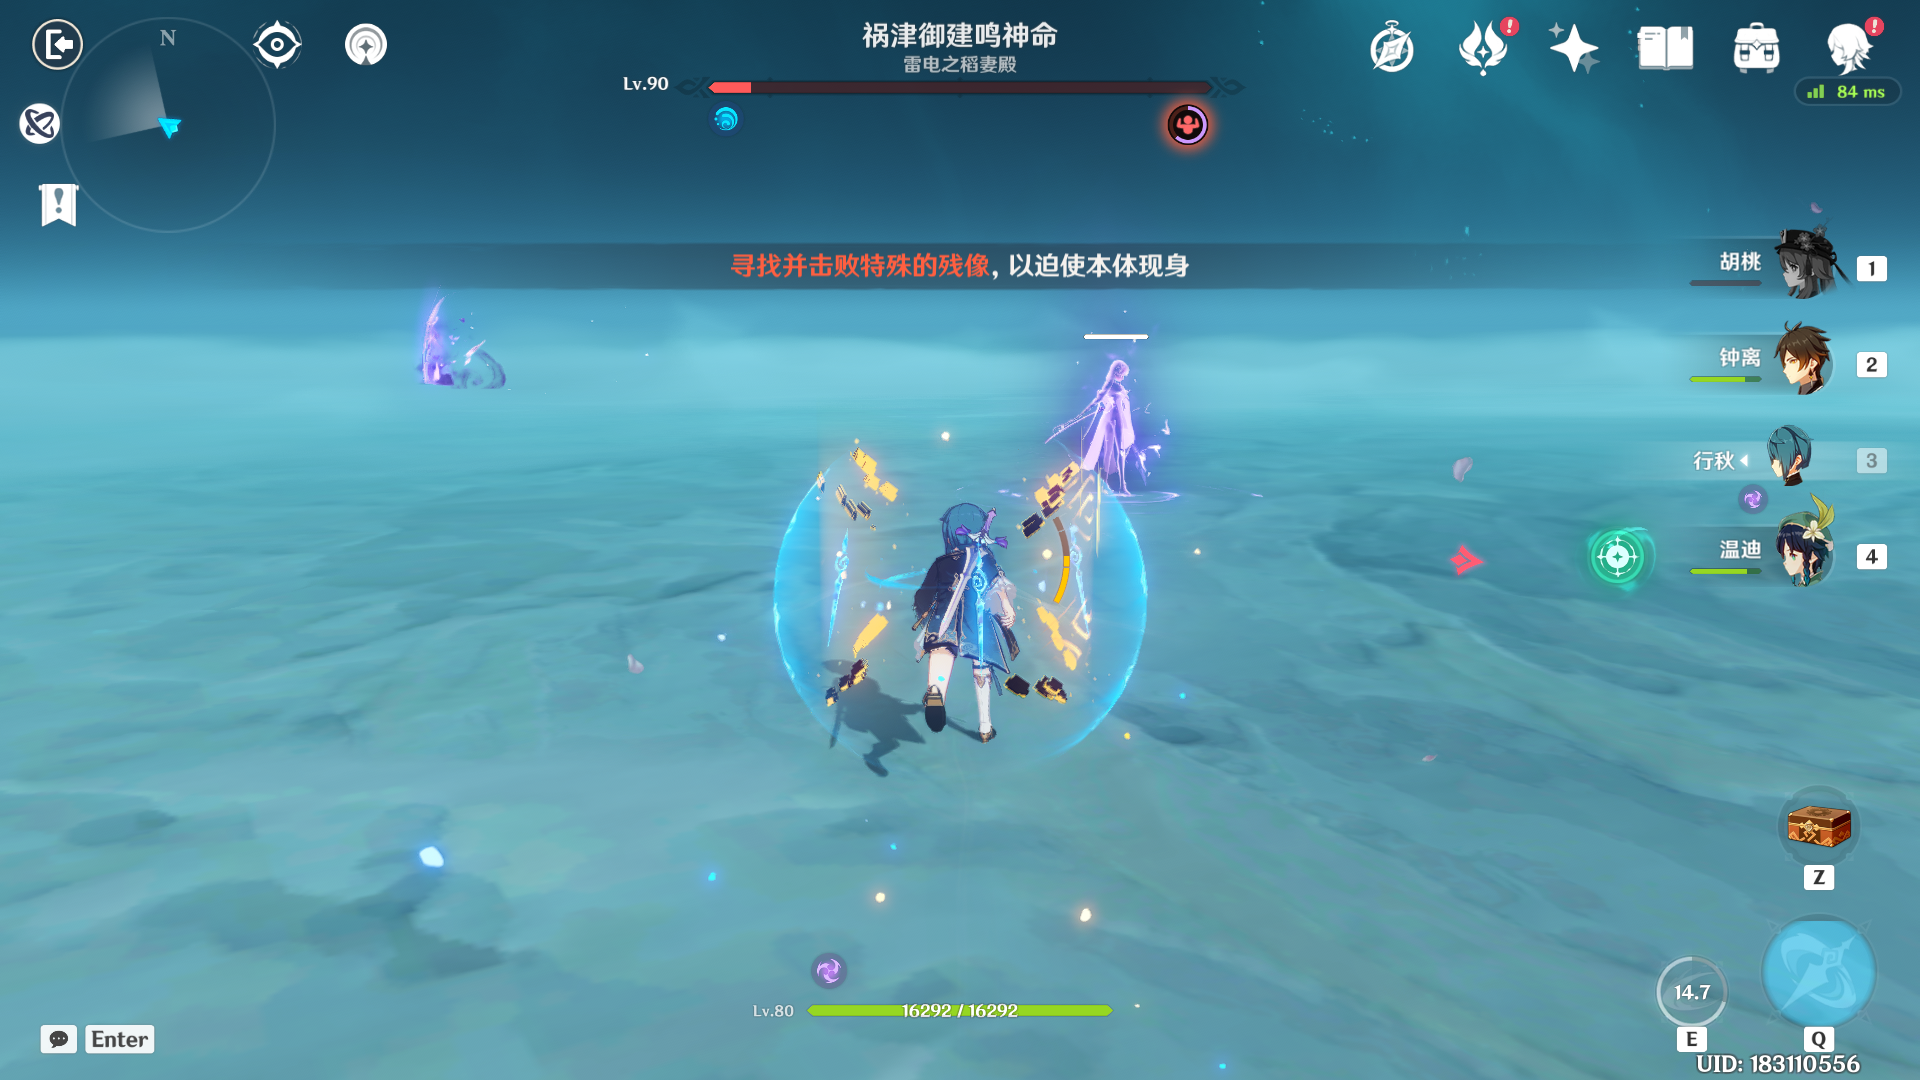character: (851, 462, 1091, 837)
